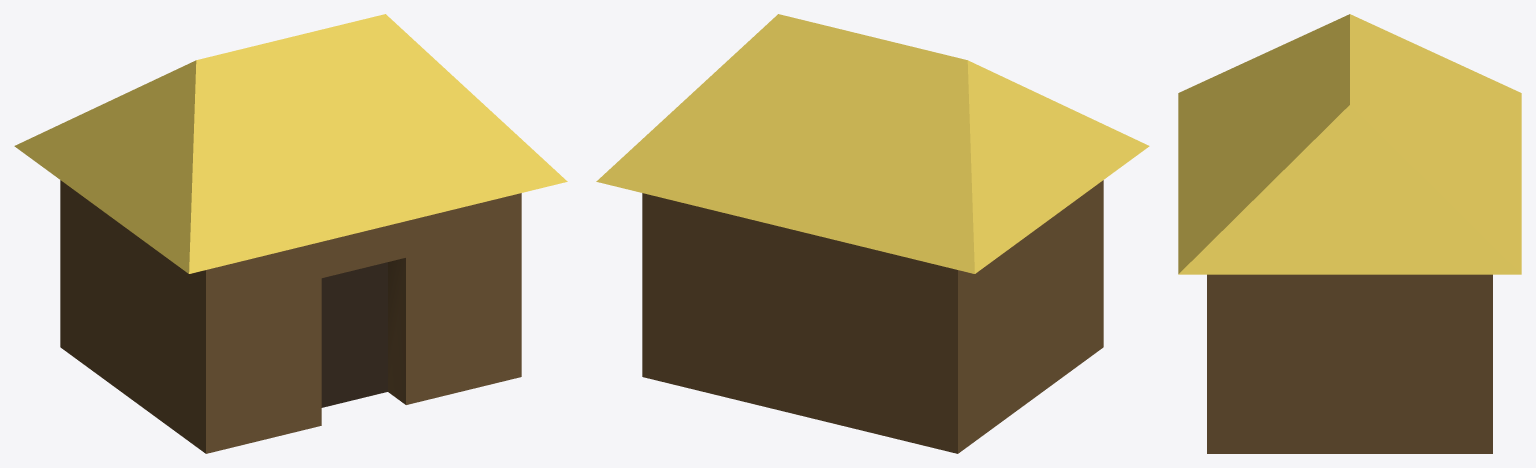
Rendered from house.glb.
The picture shows the model from 3 angles, left to right: view 1: azimuth 30°, elevation 25°; view 2: azimuth 150°, elevation 25°; view 3: azimuth 270°, elevation 25°; orthographic projection.
Visible parts, largest first — view 1: Cube, Cube.001; view 2: Cube, Cube.001; view 3: Cube.001, Cube.
Boxes of the visible parts, <box> form: Cube: <box>60,180,521,453</box>; Cube.001: <box>14,14,567,273</box>; Cube: <box>642,180,1103,453</box>; Cube.001: <box>596,14,1149,273</box>; Cube.001: <box>1178,14,1521,274</box>; Cube: <box>1207,274,1492,453</box>.
Size of the model in its own units: 2.4 by 1.97 by 1.92.
